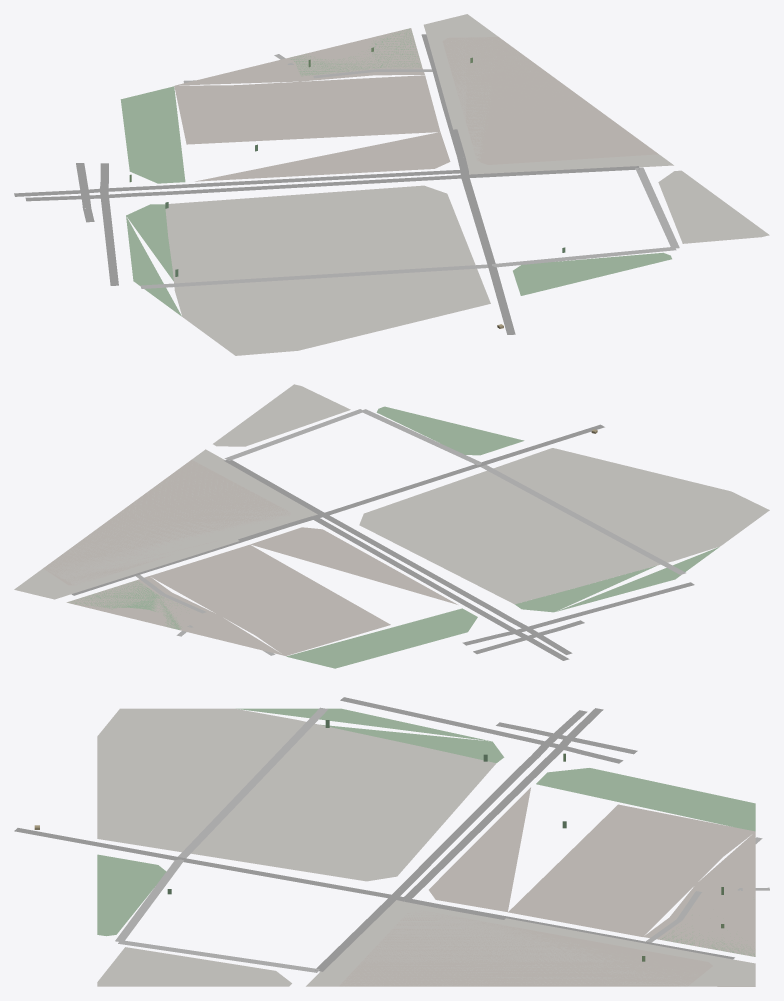
3 renders of one model, top to bottom at view 1: azimuth 30°, elevation 25°; view 2: azimuth 150°, elevation 25°; view 3: azimuth 270°, elevation 25°, orthographic. The views are drawn at different scales.
Bounding box in the file's own units: 521 × 7.45 × 574.
